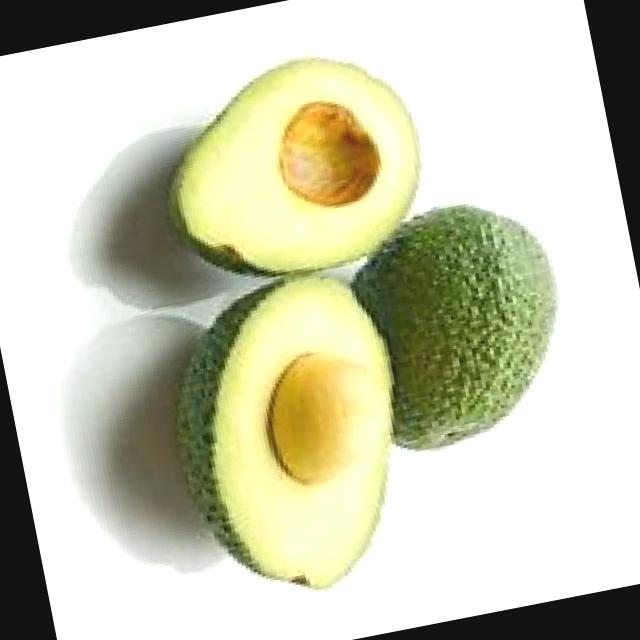avocado: (152, 252, 436, 604), (154, 32, 444, 298), (349, 191, 591, 466)
